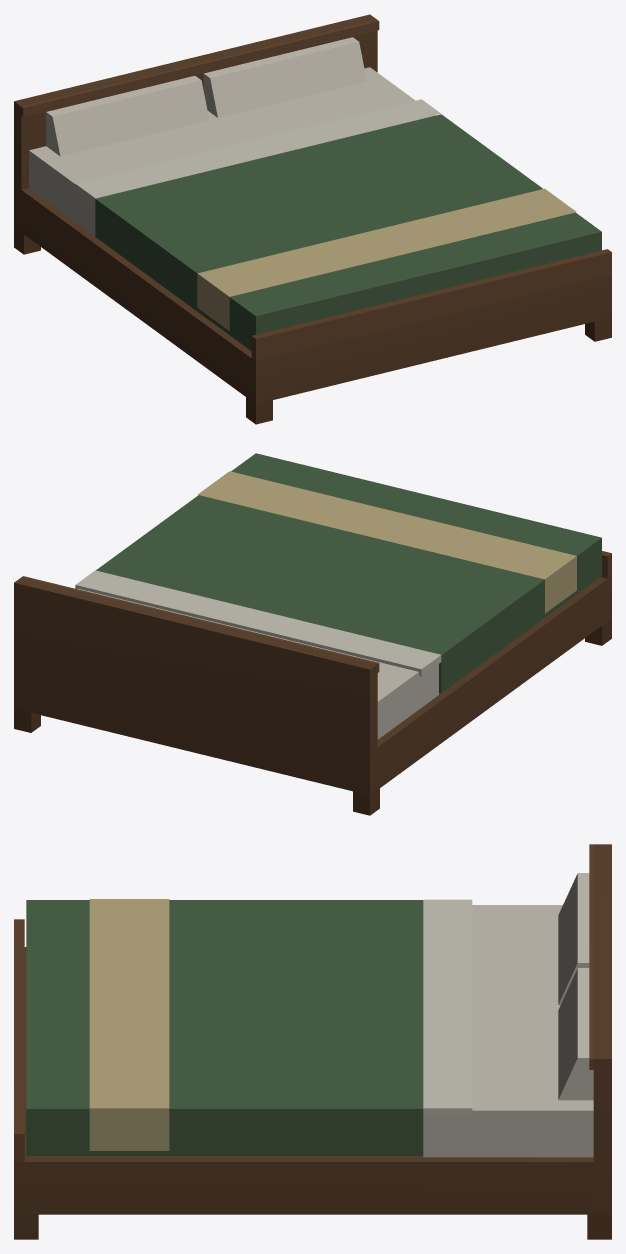
Rendered from bed.double.green.glb.
3 renders of one model, top to bottom at view 1: azimuth 30°, elevation 25°; view 2: azimuth 150°, elevation 25°; view 3: azimuth 270°, elevation 25°, orthographic. The views are drawn at different scales.
Parts seen in each view (by area): view 1: bed_double_green; view 2: bed_double_green; view 3: bed_double_green.
Boxes of the visible parts, x1,y1,x2,y2 form: bed_double_green: (14, 14, 611, 424); bed_double_green: (14, 453, 611, 815); bed_double_green: (14, 844, 611, 1239).
Size of what is drawn, in the model's own units: 1.66 by 0.65 by 1.95.
